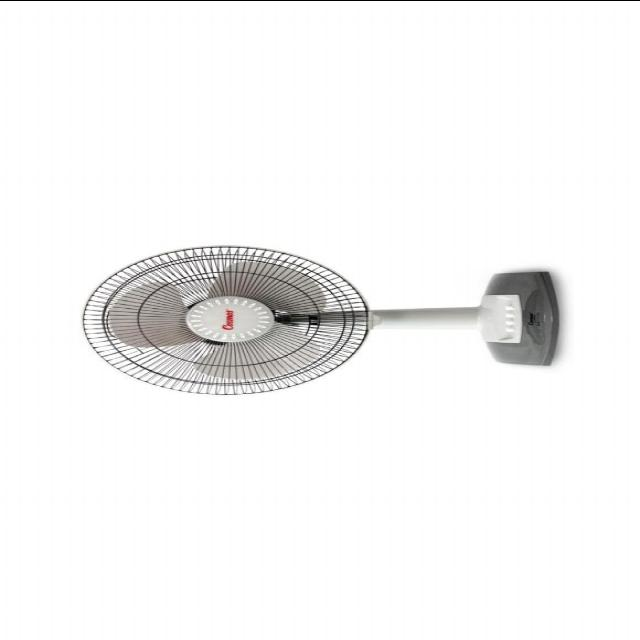fan: (75, 245, 576, 394)
